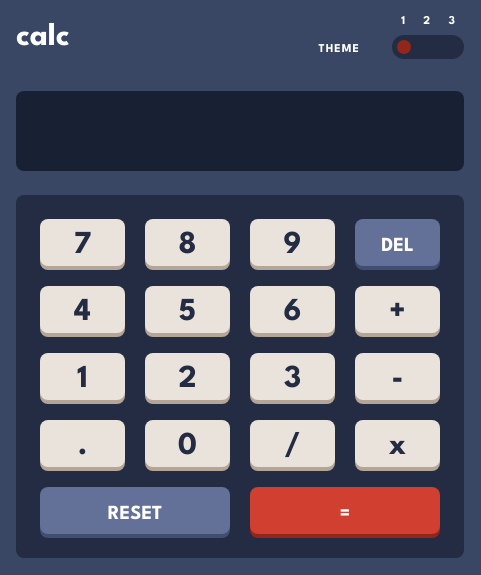
Scenario: Should return the negative operator at begin of expression
The width and height of the screenshot is (481, 575).
Click the button "-".
click(398, 376)  # box [355, 353, 440, 400]
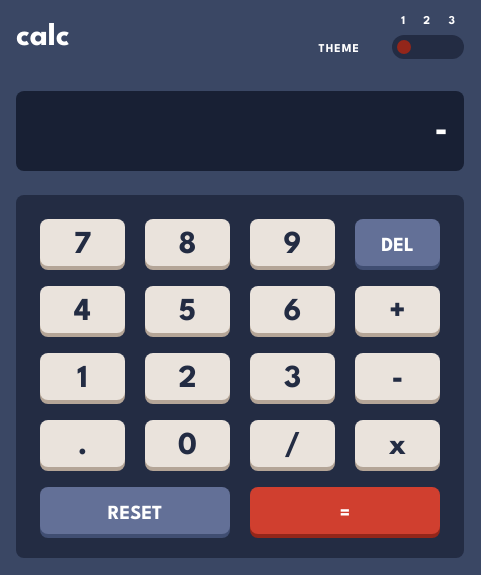
Expected: the text with test id "output" reads "-", [434, 114, 448, 148]
